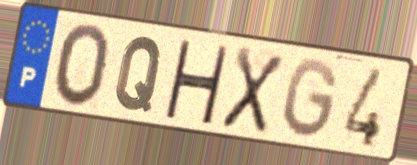4: (340, 65, 383, 151)
G: (281, 56, 341, 142)
H: (161, 37, 231, 128)
O: (51, 21, 113, 111)
Q: (112, 34, 166, 115)
X: (218, 43, 287, 137)
